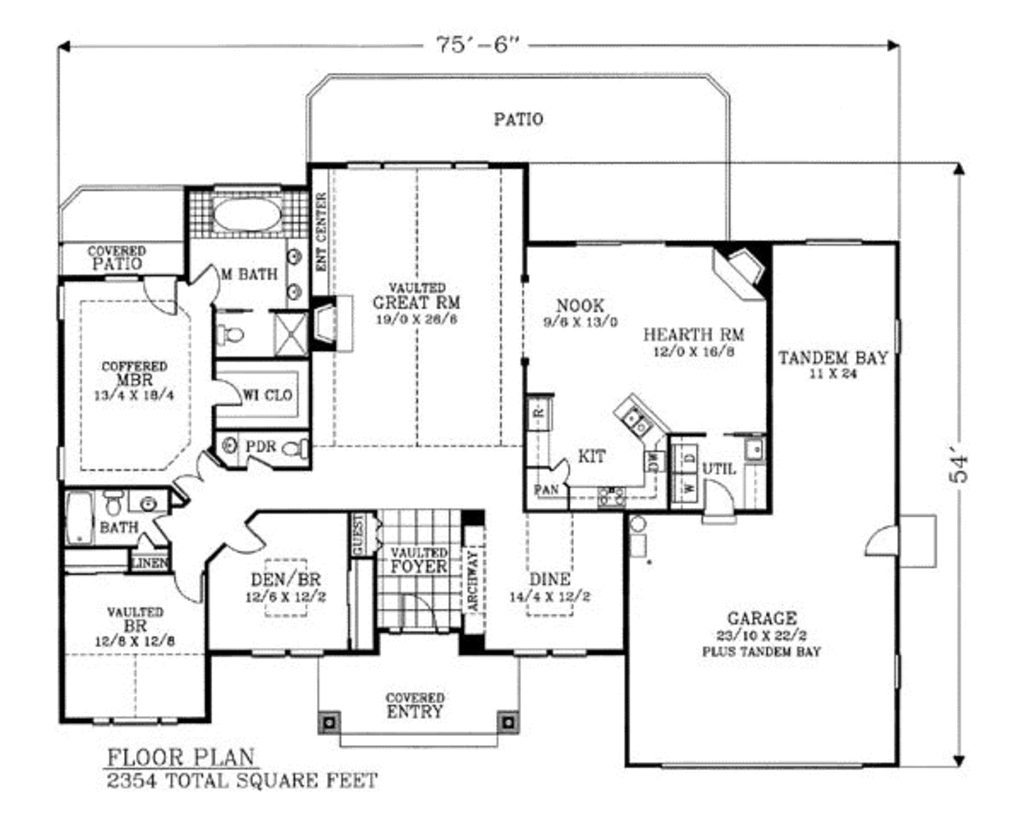door: (851, 519, 899, 572), (169, 448, 218, 497), (136, 274, 188, 317), (223, 521, 269, 562), (698, 475, 735, 522), (164, 565, 203, 608), (192, 267, 230, 306), (541, 454, 573, 488), (147, 511, 174, 551), (212, 378, 245, 408)
large_sink: (270, 431, 321, 465), (208, 322, 252, 350), (101, 487, 131, 520)
small_sink: (283, 238, 312, 313), (131, 484, 163, 513)
tub: (208, 192, 282, 231), (61, 489, 103, 549)
twin_sink: (616, 393, 665, 446)
window: (346, 158, 493, 173), (46, 282, 87, 321), (804, 232, 879, 251), (517, 644, 590, 662), (94, 712, 182, 726), (242, 645, 323, 659), (52, 443, 74, 489), (894, 315, 902, 360)
